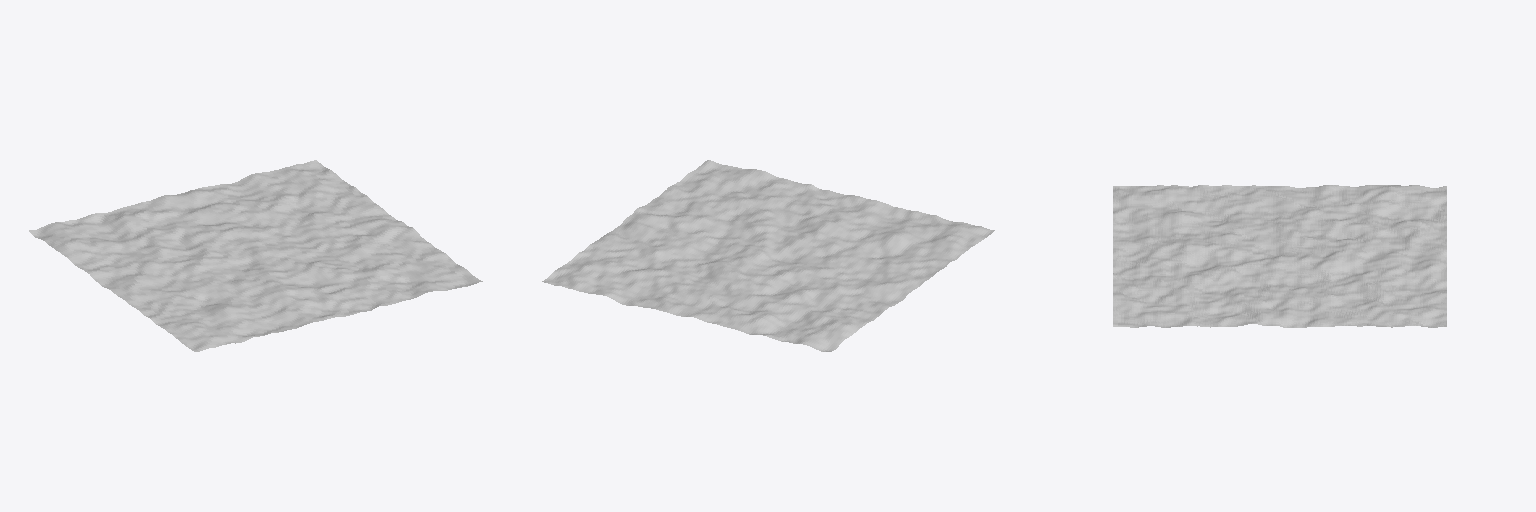
Rendered from ground.obj.
3 renders of one model, left to right at view 1: azimuth 30°, elevation 25°; view 2: azimuth 150°, elevation 25°; view 3: azimuth 270°, elevation 25°, orthographic.
Visible parts, largest first — view 1: Grid_Grid.001; view 2: Grid_Grid.001; view 3: Grid_Grid.001.
Part boxes in pixels (bbox=[...]): Grid_Grid.001: bbox=[29, 160, 482, 351]; Grid_Grid.001: bbox=[542, 160, 994, 351]; Grid_Grid.001: bbox=[1113, 185, 1446, 327].
Bounding box in the file's own units: 2 × 0.053 × 2.